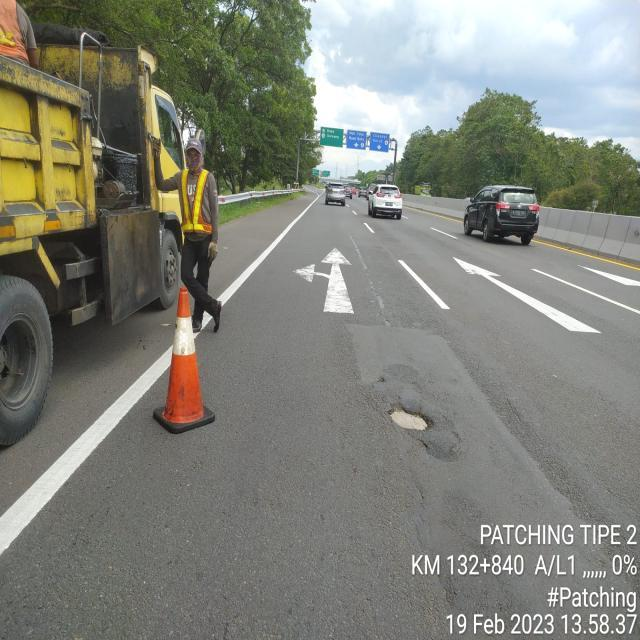Buraco: (383, 400, 436, 434)
